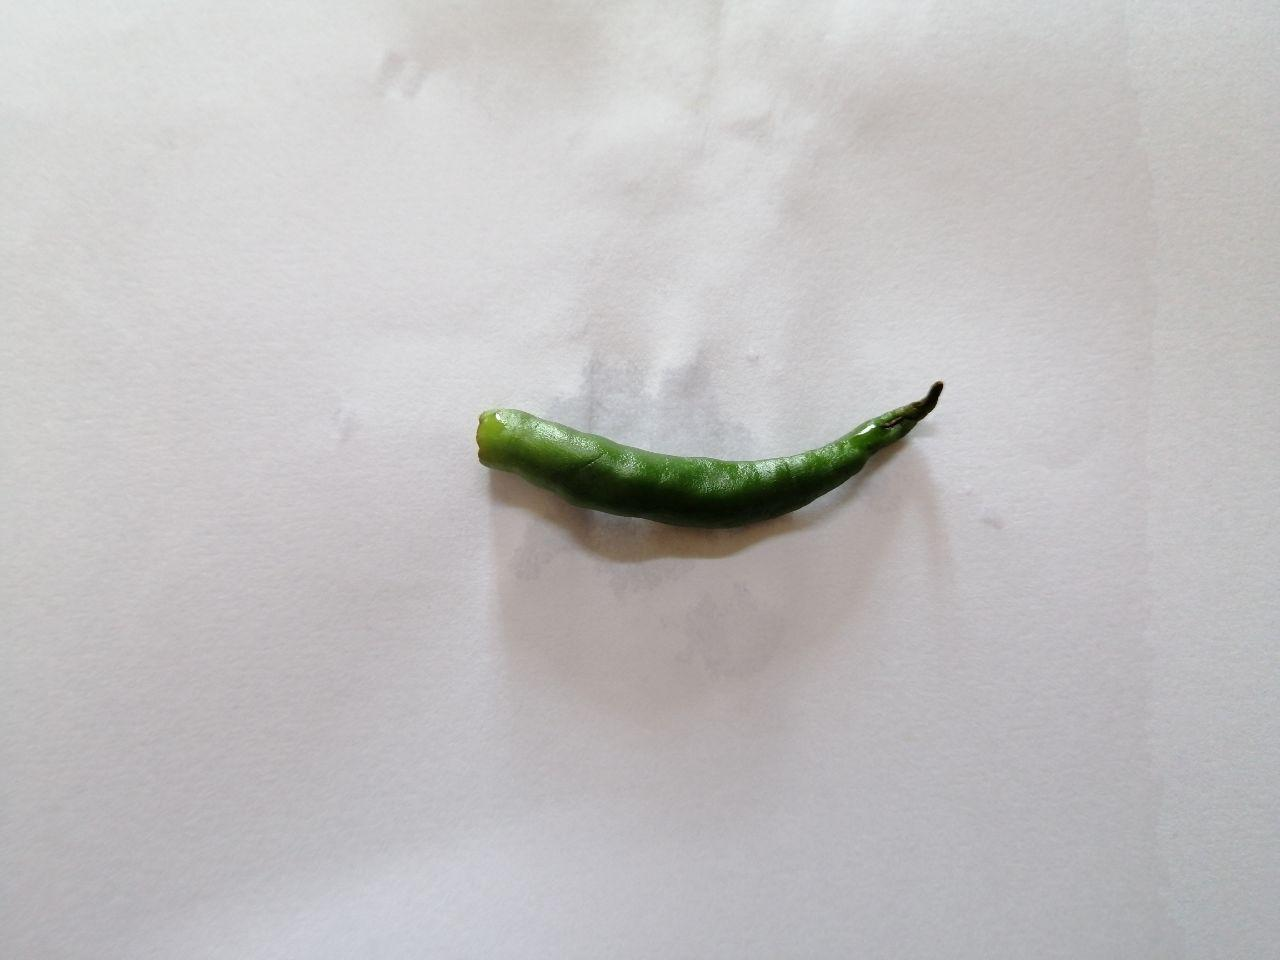lada hijau: (453, 325, 969, 553)
